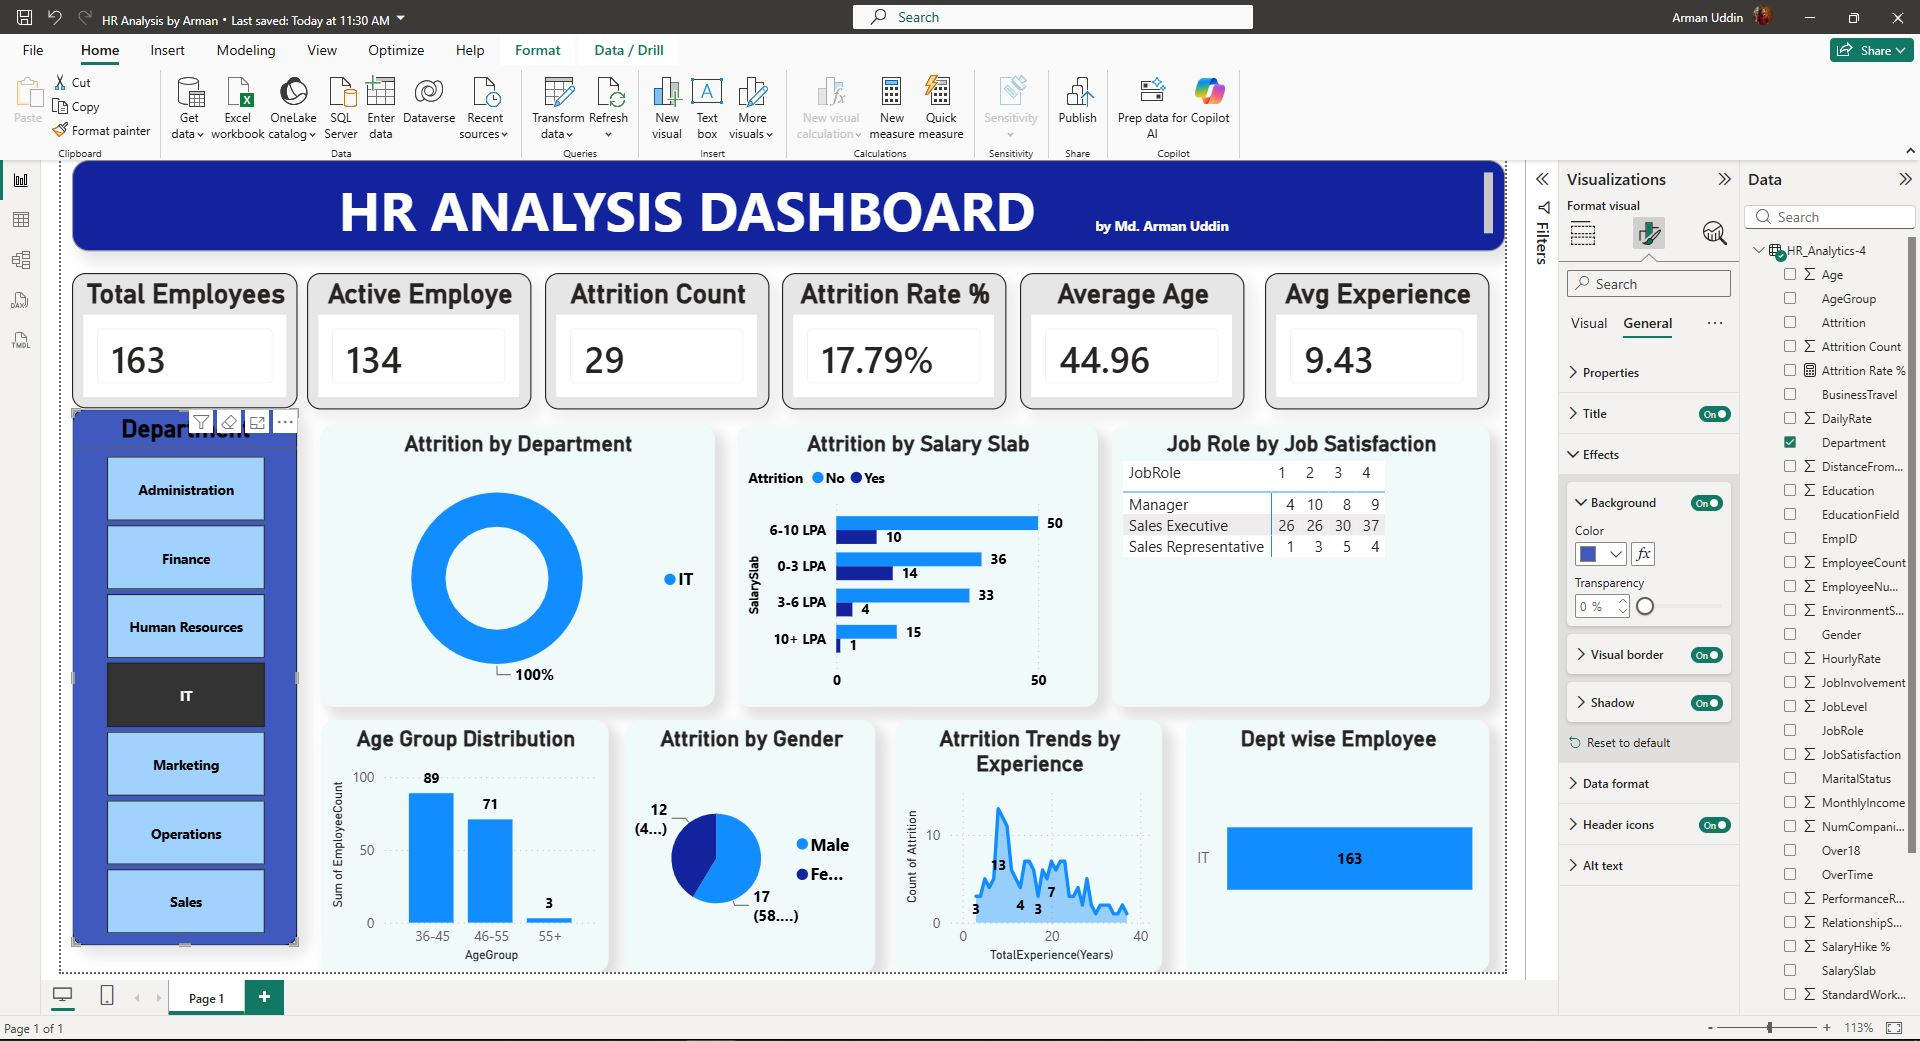

The dashboard page shown, as its layout file describes it:
{"tool":"powerbi","page":{"name":"Page 1","canvas":[1280,720],"ordinal":0},"visuals":[{"type":"textbox","box":[9.8,0,1270.6,80.7],"z":0},{"type":"cardVisual","title":"Total Employees","fields":{"Data":["CountNonNull(HR_Analytics-4.EmpID)"]},"box":[10,100,200,120],"z":2000},{"type":"cardVisual","title":"Active Employe","fields":{"Data":["CountNonNull(HR_Analytics-4.EmployeeCount)"]},"box":[218.2,100.2,199,120.8],"z":3000},{"type":"cardVisual","title":"Attrition Count","fields":{"Data":["Sum(HR_Analytics-4.Attrition Count)"]},"box":[429.5,100.2,199,120.8],"z":4000},{"type":"cardVisual","title":"Attrition Rate %","fields":{"Data":["HR_Analytics-4.Attrition Rate %"]},"box":[639.5,100.2,199,120.8],"z":5000},{"type":"cardVisual","title":"Average Age","fields":{"Data":["Avg(HR_Analytics-4.Age)"]},"box":[850.8,100.2,199,120.8],"z":6000},{"type":"cardVisual","title":"Avg Experience","fields":{"Data":["Avg(HR_Analytics-4.YearsatCompany)"]},"box":[1067.6,100.2,199,120.8],"z":7000},{"type":"donutChart","title":" Attrition by Department","fields":{"Category":["HR_Analytics-4.Department"],"Y":["CountNonNull(HR_Analytics-4.Attrition)"]},"box":[230,234.6,349.9,249.7],"z":8000},{"type":"clusteredBarChart","title":"Attrition by Salary Slab","fields":{"Category":["HR_Analytics-4.SalarySlab"],"Series":["HR_Analytics-4.Attrition"],"Y":["CountNonNull(HR_Analytics-4.EmpID)"]},"box":[599.7,234.6,319.7,249.7],"z":9000},{"type":"pivotTable","title":"Job Role by Job Satisfaction","fields":{"Columns":["HR_Analytics-4.JobSatisfaction"],"Rows":["HR_Analytics-4.JobRole"],"Values":["CountNonNull(HR_Analytics-4.Attrition)"]},"box":[931.7,234.6,334.8,249.7],"z":10000},{"type":"columnChart","title":"Age Group Distribution","fields":{"Category":["HR_Analytics-4.AgeGroup"],"Y":["Sum(HR_Analytics-4.EmployeeCount)"]},"box":[230.5,496.7,255.2,223.7],"z":11000},{"type":"pieChart","title":"Attrition by Gender","fields":{"Category":["HR_Analytics-4.Gender"],"Y":["Sum(HR_Analytics-4.Attrition Count)"]},"box":[500.9,496.7,220.9,223.7],"z":12000},{"type":"stackedAreaChart","title":"Atrrition Trends by Experience","fields":{"Category":["HR_Analytics-4.TotalExperience(Years)"],"Y":["CountNonNull(HR_Analytics-4.Attrition)"]},"box":[739.6,496.7,237.4,223.7],"z":13000},{"type":"funnel","title":"Dept wise Employee","fields":{"Category":["HR_Analytics-4.Department"],"Y":["CountNonNull(HR_Analytics-4.EmpID)"]},"box":[997.6,496.7,269,223.7],"z":14000},{"type":"slicer","title":"Department","fields":{"Values":["HR_Analytics-4.Department"]},"box":[9.6,220.9,200.3,476.2],"z":15000}]}

Visuals, with their boxes on the page's 1280x720 design canvas (x1, y1, x2, y2). These are canvas units, not pixel positions in the 1920x1041 screenshot, which may show the page scaled, cropped or inside an application window:
textbox: bbox(10, 0, 1280, 81)
"Total Employees" cardVisual: bbox(10, 100, 210, 220)
"Active Employe" cardVisual: bbox(218, 100, 417, 221)
"Attrition Count" cardVisual: bbox(430, 100, 628, 221)
"Attrition Rate %" cardVisual: bbox(640, 100, 838, 221)
"Average Age" cardVisual: bbox(851, 100, 1050, 221)
"Avg Experience" cardVisual: bbox(1068, 100, 1267, 221)
" Attrition by Department" donutChart: bbox(230, 235, 580, 484)
"Attrition by Salary Slab" clusteredBarChart: bbox(600, 235, 919, 484)
"Job Role by Job Satisfaction" pivotTable: bbox(932, 235, 1266, 484)
"Age Group Distribution" columnChart: bbox(230, 497, 486, 720)
"Attrition by Gender" pieChart: bbox(501, 497, 722, 720)
"Atrrition Trends by Experience" stackedAreaChart: bbox(740, 497, 977, 720)
"Dept wise Employee" funnel: bbox(998, 497, 1267, 720)
"Department" slicer: bbox(10, 221, 210, 697)
